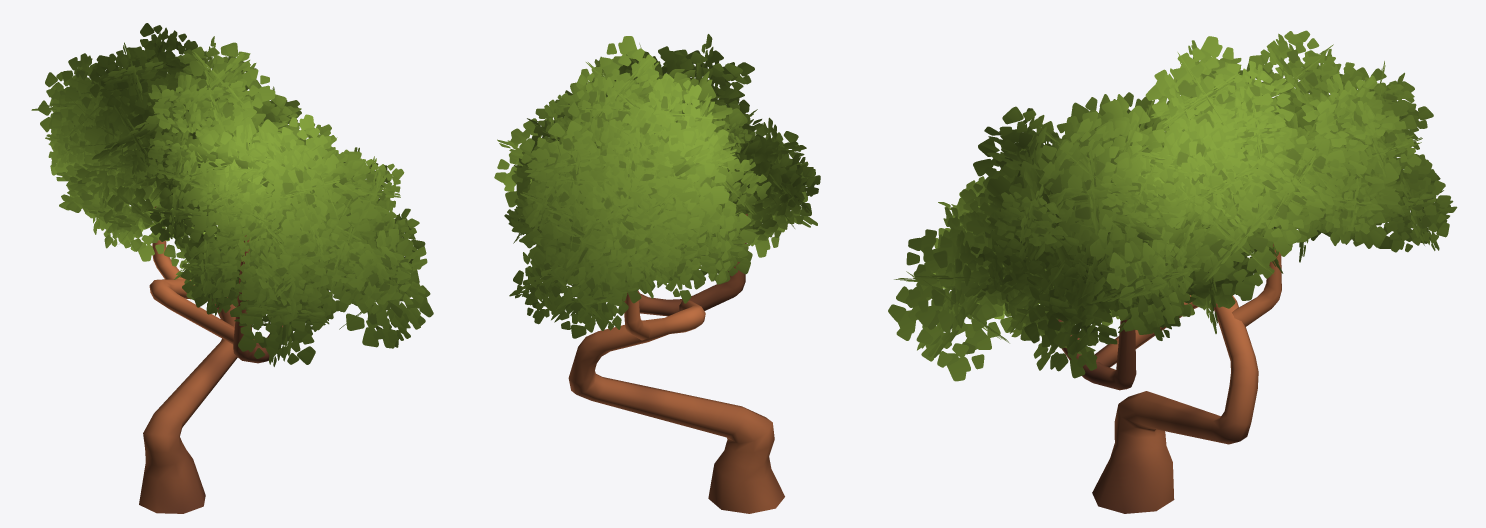
Rendered from swiggly_01.glb.
3 views of the same model, side by side, from view 1: azimuth 30°, elevation 25°; view 2: azimuth 150°, elevation 25°; view 3: azimuth 270°, elevation 25° (orthographic). The views are drawn at different scales.
Parts seen in each view (by area): view 1: swiggly_01; view 2: swiggly_01; view 3: swiggly_01.
Part boxes in pixels (left/top/right/bottom): swiggly_01: left=31, top=23, right=433, bottom=513; swiggly_01: left=494, top=34, right=820, bottom=513; swiggly_01: left=888, top=30, right=1457, bottom=513.
Size of the model in its own units: 4.46 by 5.99 by 6.46.
Materials: 2 (2 with a texture image).
